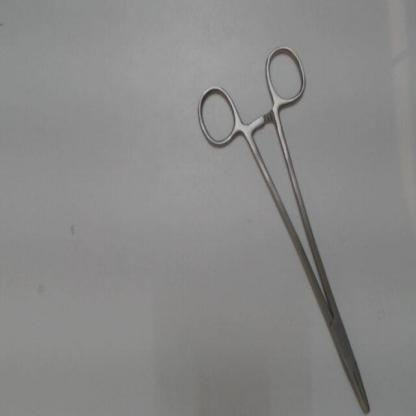8 Mayo Needle Holder: (190, 32, 378, 414)
